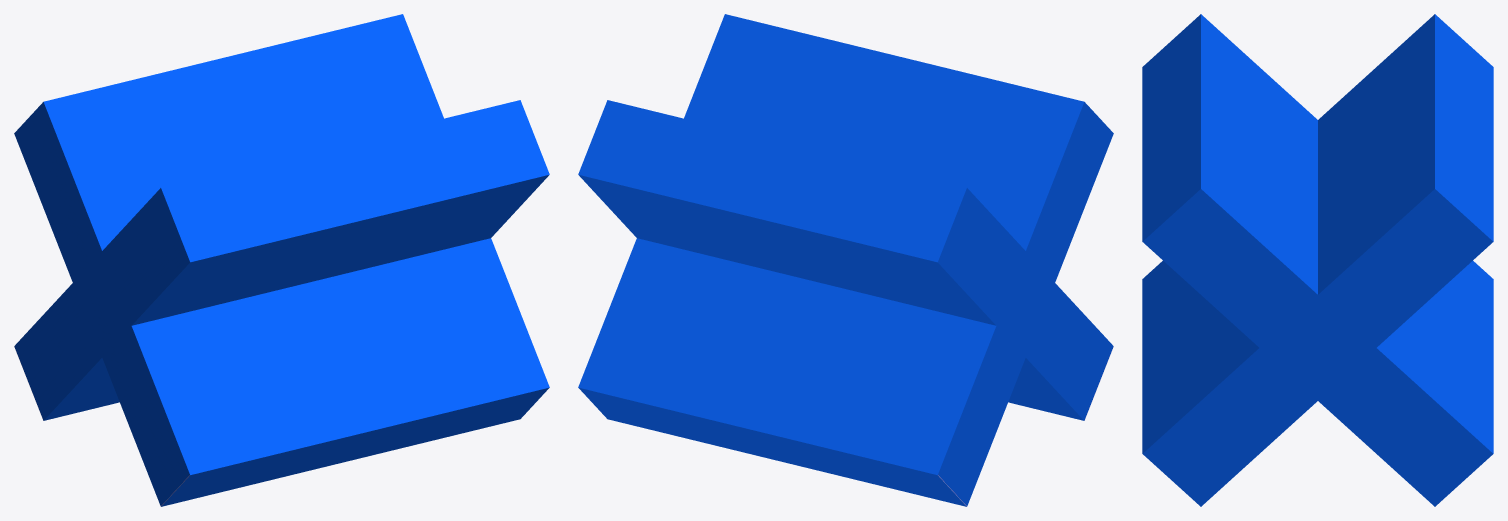
3 renders of one model, left to right at view 1: azimuth 30°, elevation 25°; view 2: azimuth 150°, elevation 25°; view 3: azimuth 270°, elevation 25°, orthographic.
Parts seen in each view (by area): view 1: 立方体.001; view 2: 立方体.001; view 3: 立方体.001.
Part boxes in pixels (bbox=[...]): 立方体.001: bbox=[14, 14, 549, 506]; 立方体.001: bbox=[578, 14, 1113, 506]; 立方体.001: bbox=[1142, 14, 1493, 506].
Size of the model in its own units: 2 by 1.7 by 1.7.
